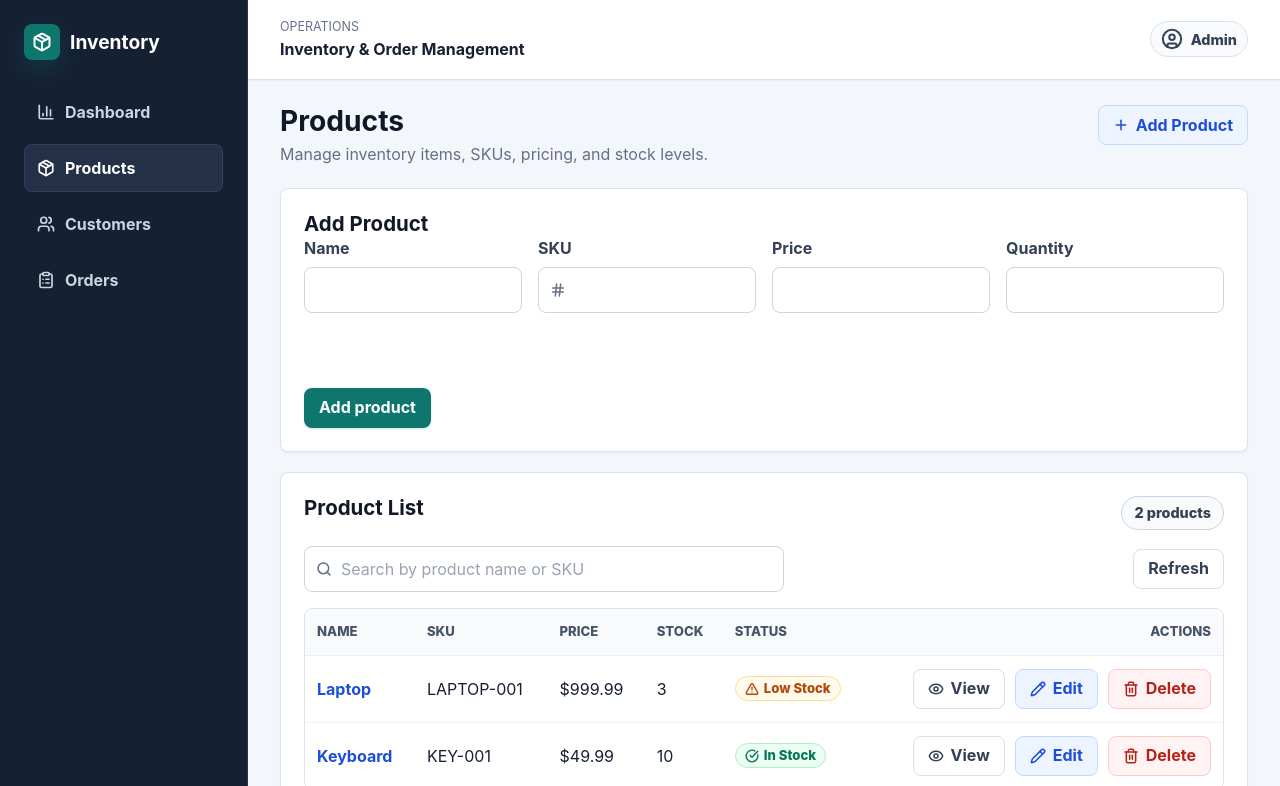
it: frontend flows › SKU availability check in edit mode excludes the current product id
Expected: the link "Laptop" is shown, [317,677,371,701]
Click the button "Edit" in the row of "LAPTOP-001" at (1056, 689), box [1015,669,1098,709]
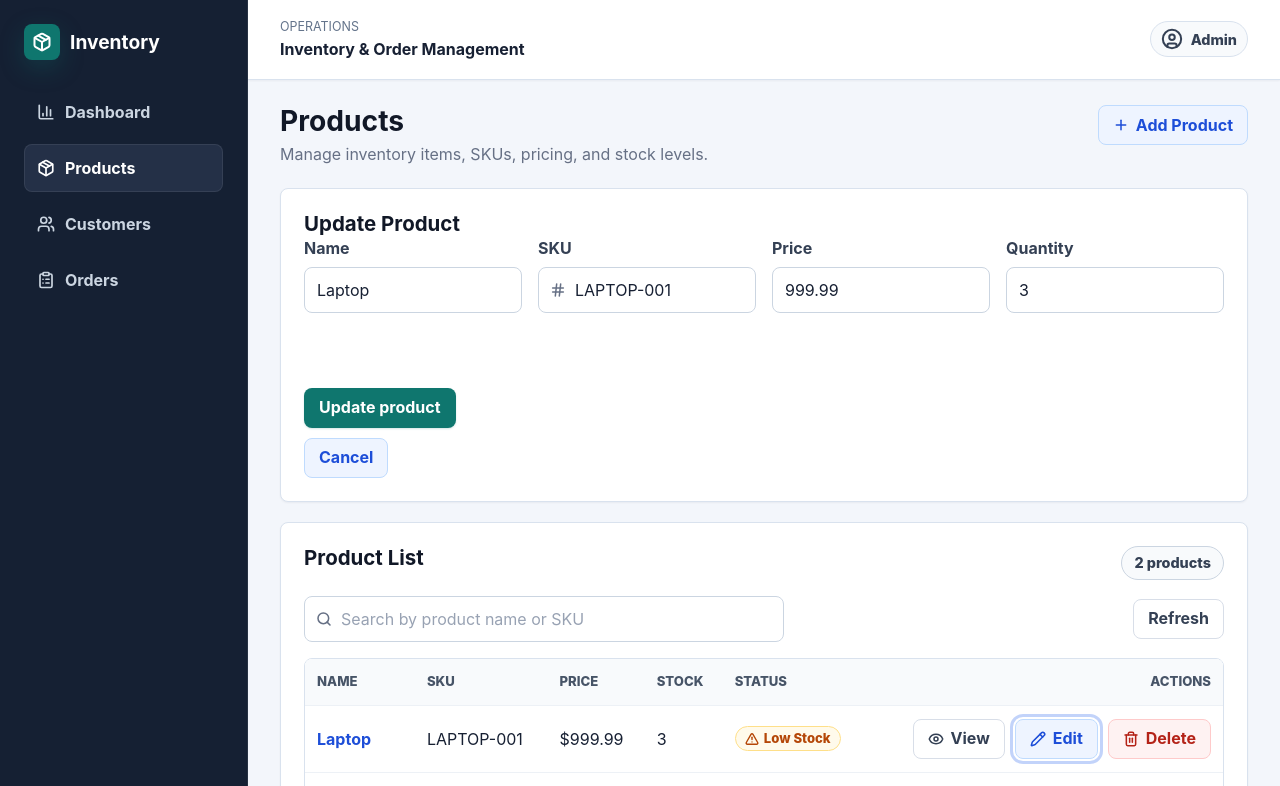
Replace the text in the field labelled "SKU" with "key-001" at (647, 290), box [538,267,756,313]
(page scrolled)
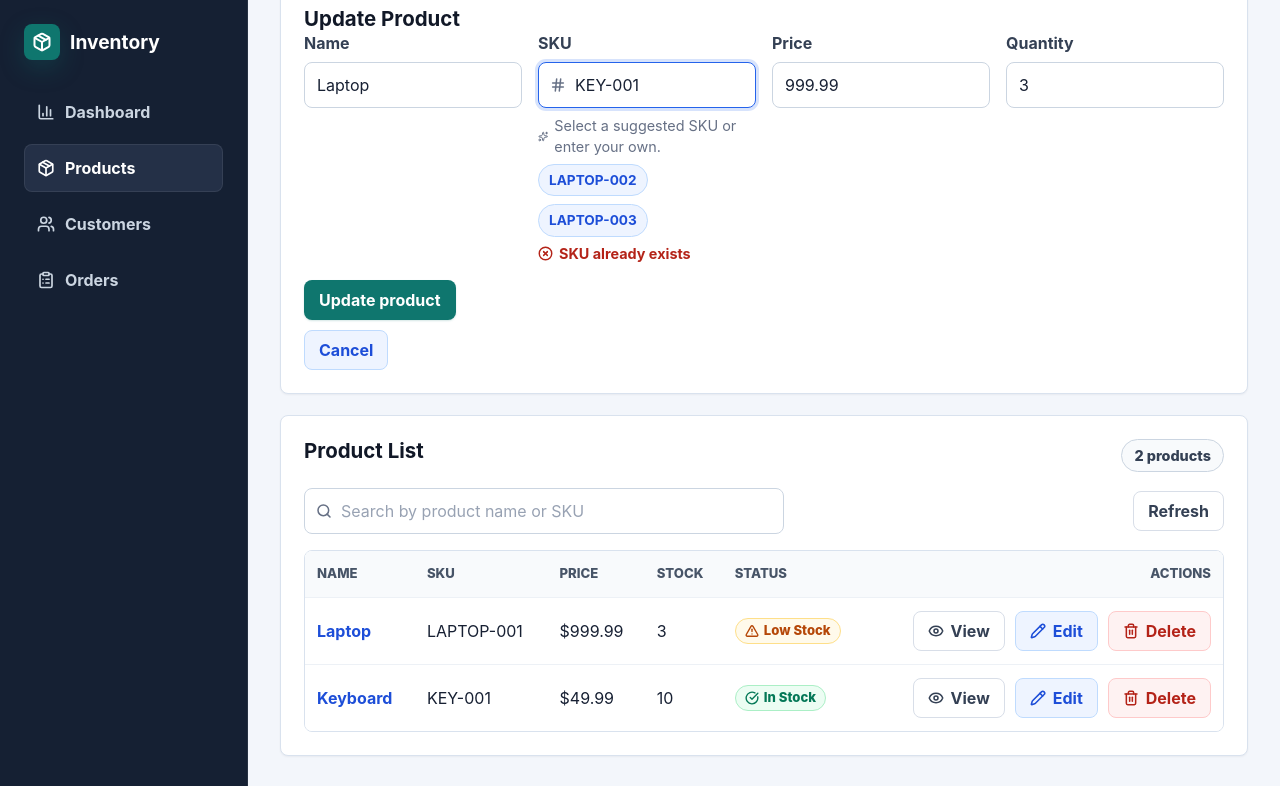
Expected: the cell "KEY-001" is shown, [415,665,548,731]
Expected: the text "SKU already exists" is shown, [559,243,691,264]
